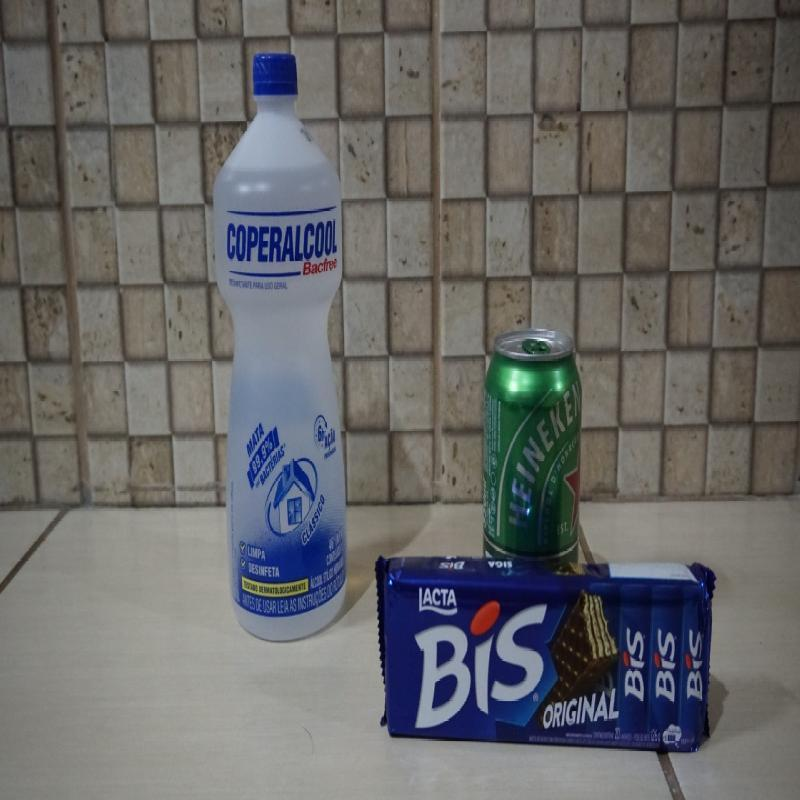Alcohol Bottle: (214, 54, 347, 643)
Beer can: (482, 329, 584, 558)
